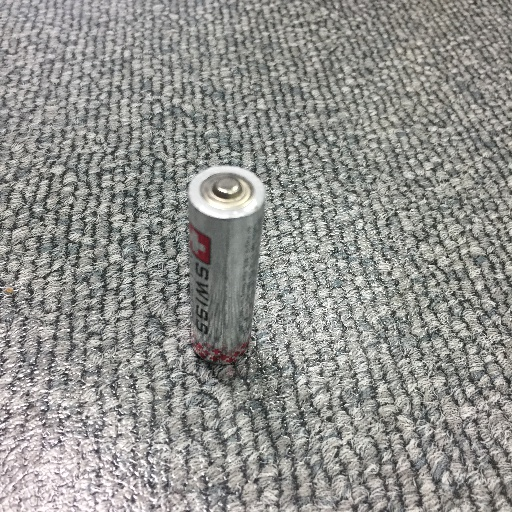Battery_0: (183, 158, 270, 375)
